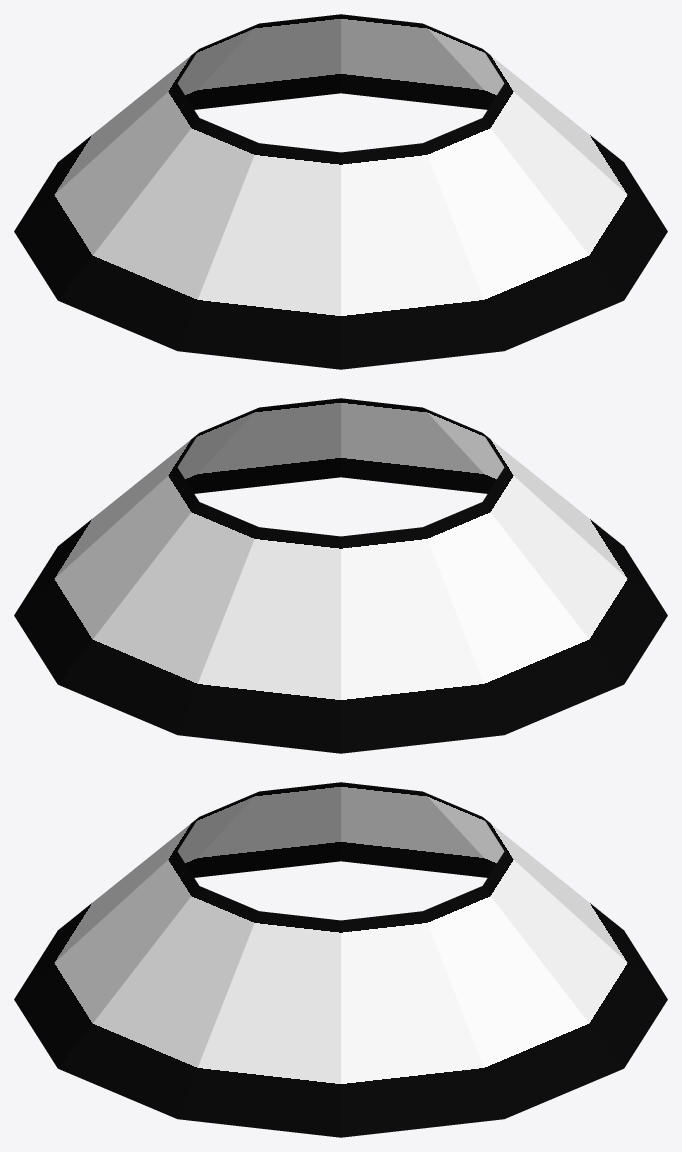
The model's file is effect-dash.fbx.
3 renders of one model, top to bottom at view 1: azimuth 30°, elevation 25°; view 2: azimuth 150°, elevation 25°; view 3: azimuth 270°, elevation 25°, orthographic.
Parts seen in each view (by area): view 1: effect_dash; view 2: effect_dash; view 3: effect_dash.
Boxes of the visible parts, x1,y1,x2,y2 form: effect_dash: (14, 14, 667, 369); effect_dash: (14, 398, 667, 753); effect_dash: (14, 782, 667, 1137).
Bounding box in the file's own units: 200 × 50 × 200.
